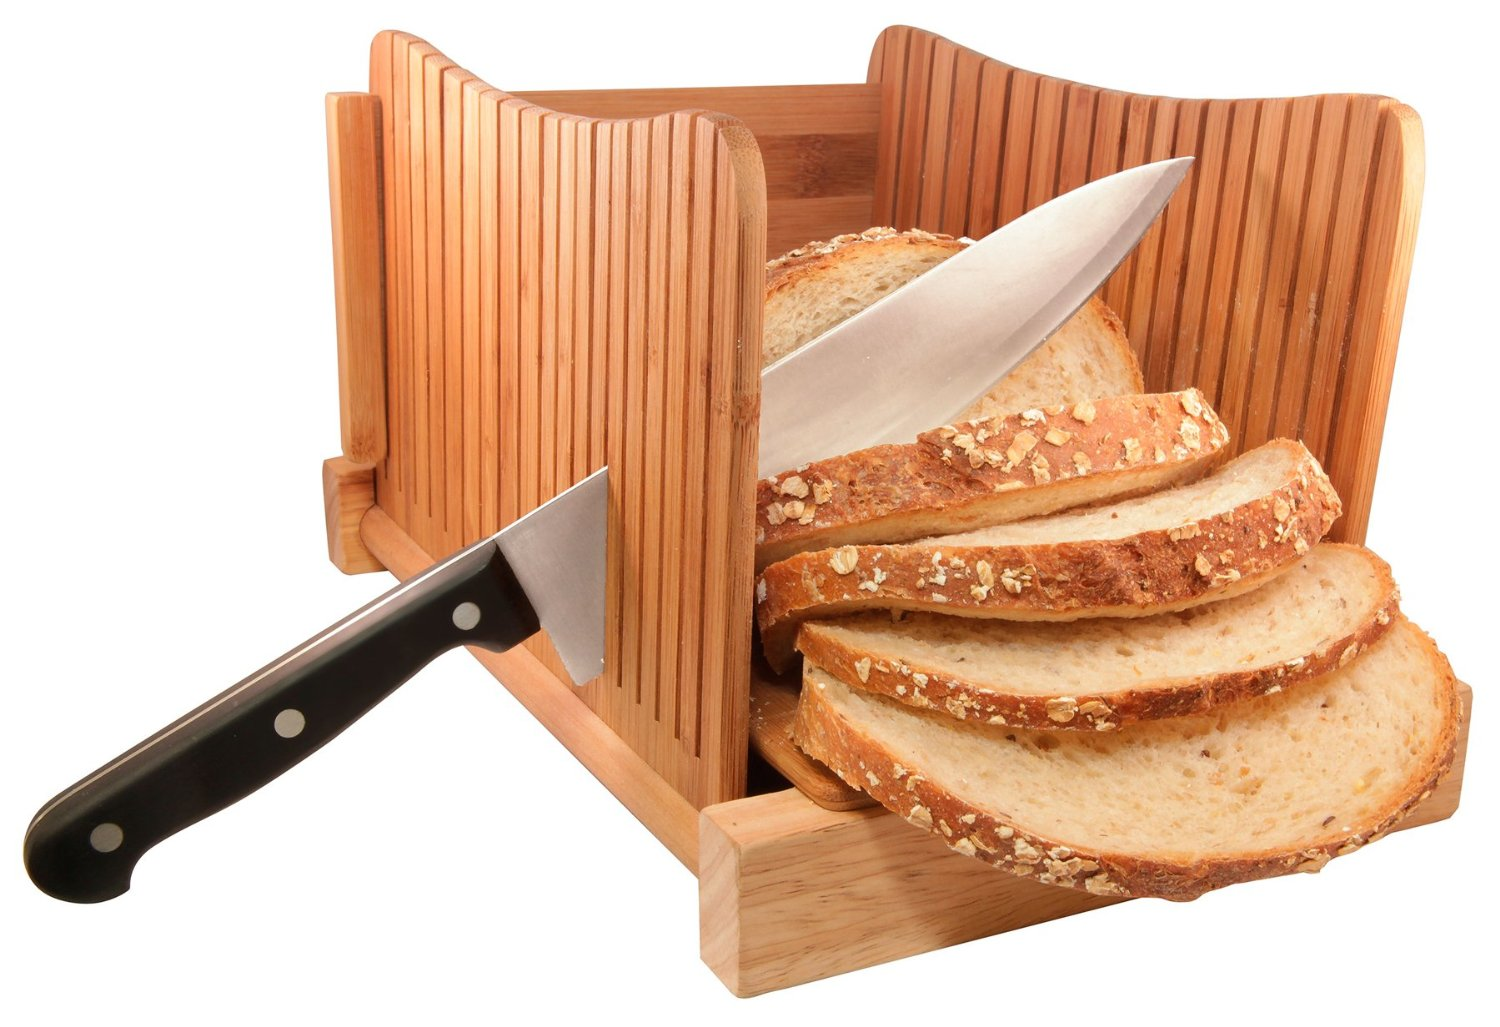slice of bread: (788, 416, 1479, 874)
